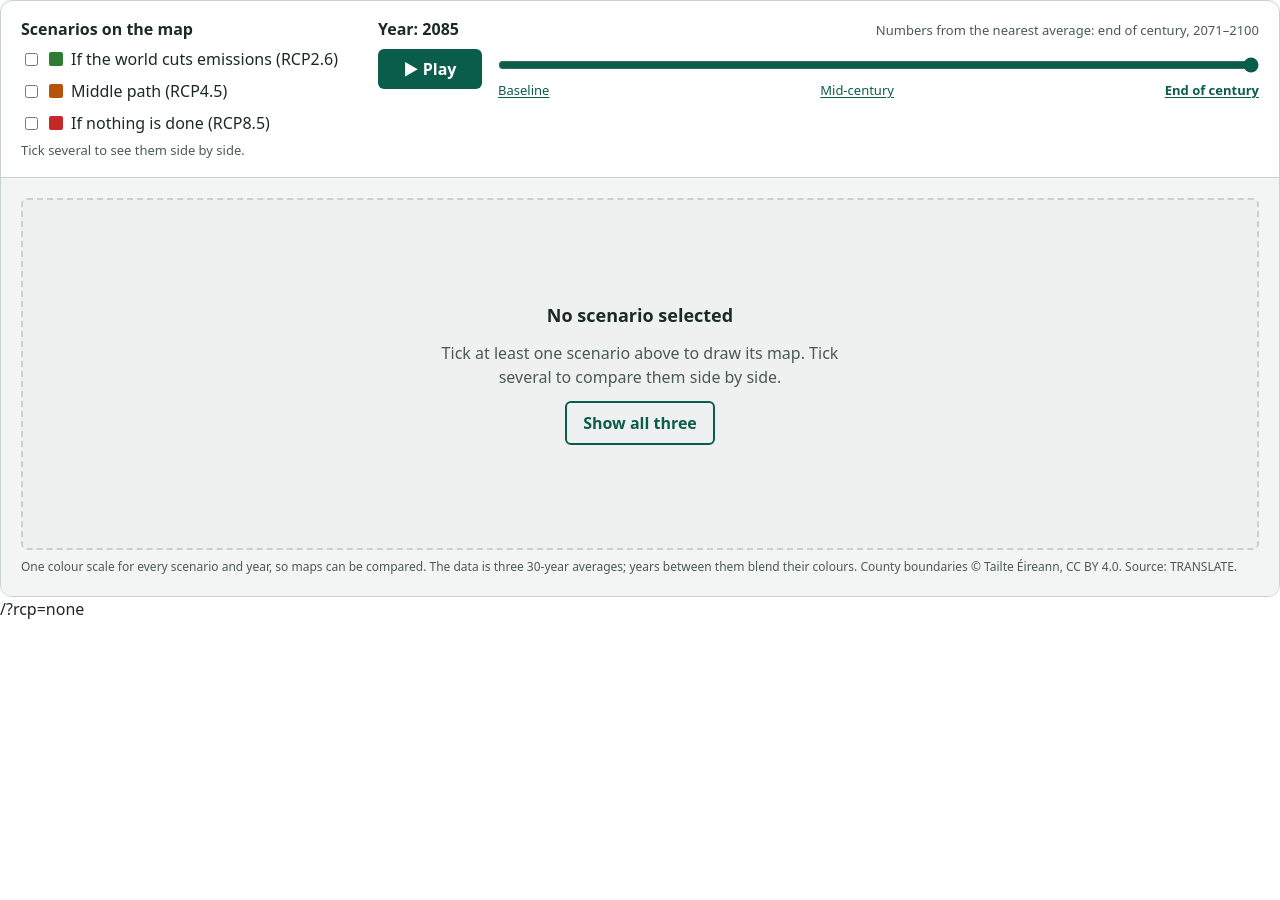
Scenario: HomeMaps › says so when no scenario is ticked, and shows all three again with one button
The width and height of the screenshot is (1280, 900).
Check: the text "No scenario selected" is shown, box [547,302,733,329]
Click the button "Show all three" at (640, 423), box [565,401,715,445]
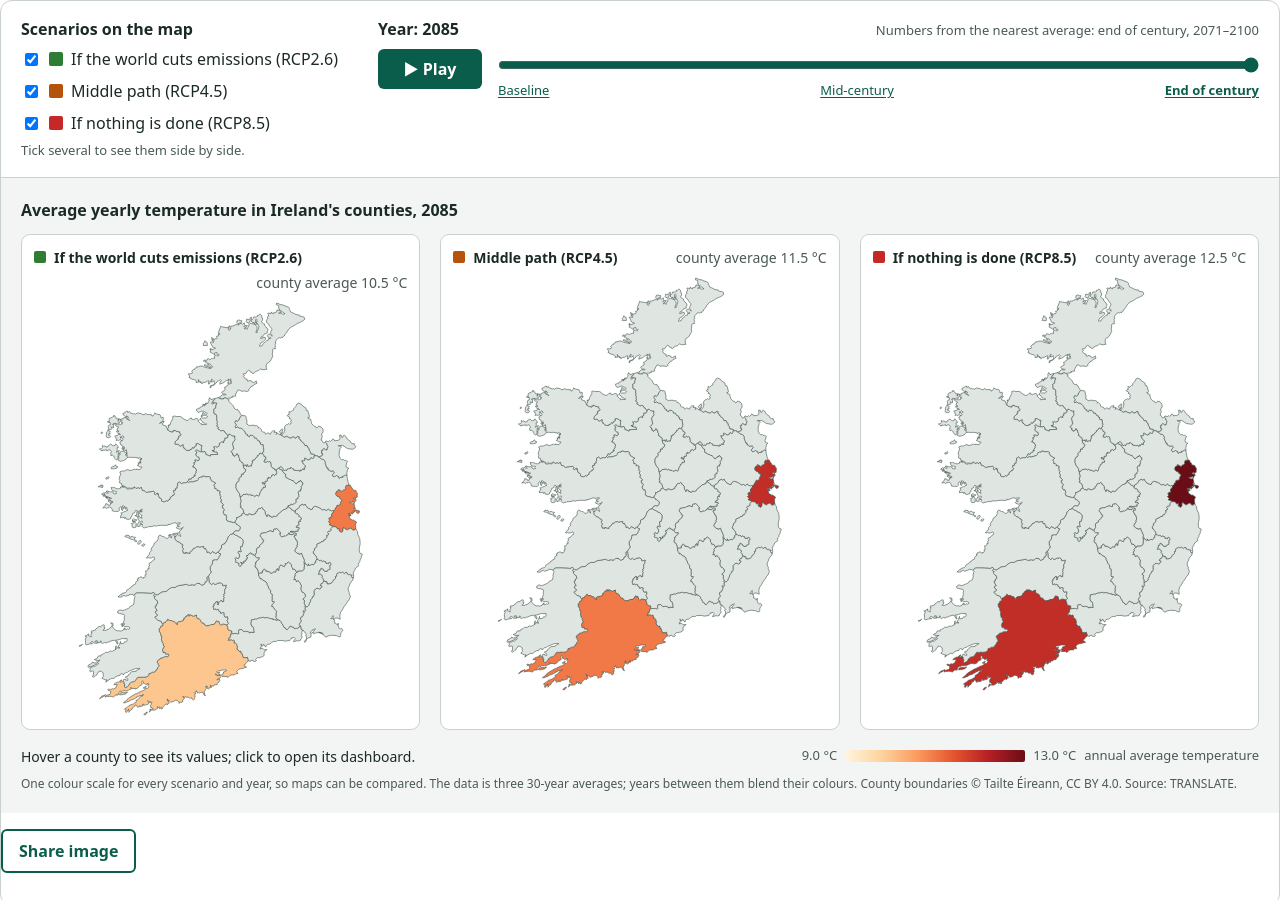
Check: the text "No scenario selected" is gone
